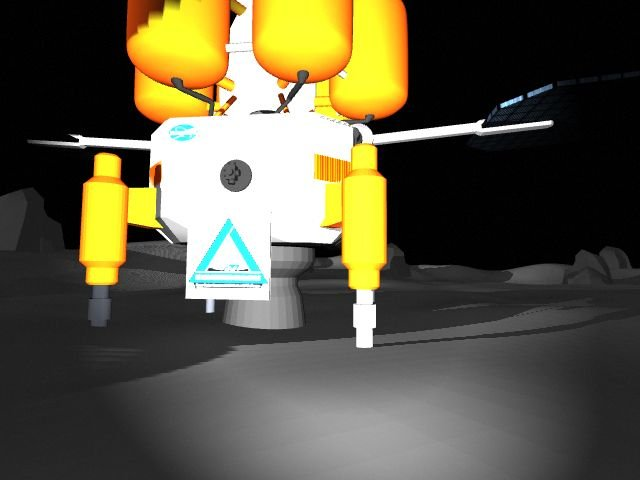basemarker: (187, 218, 269, 291)
